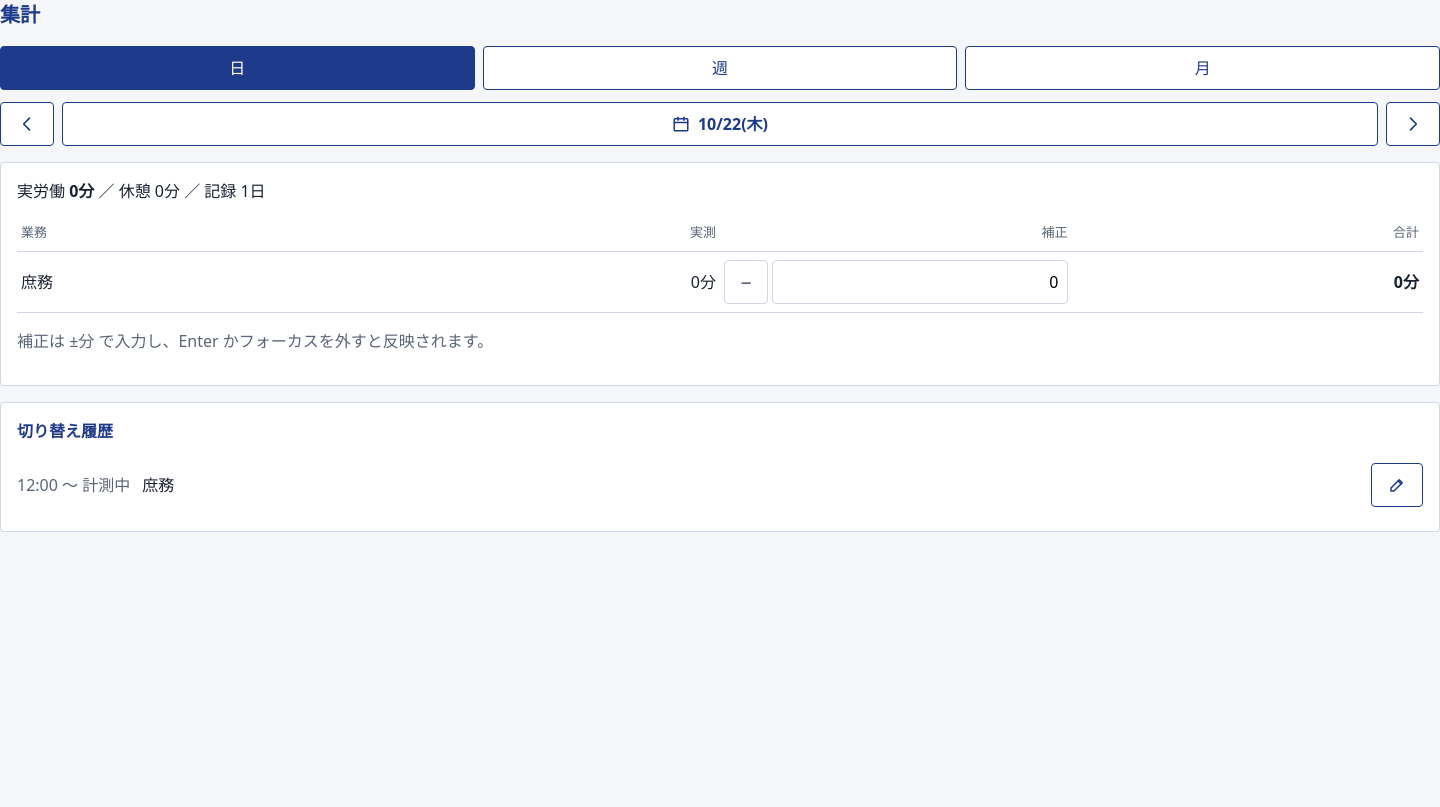
Test: SummaryScreen › カレンダー › 週・月モードではラベルはボタンではなくカレンダーも出ない
Step 1. Click the button "10/22(木)" → (720,124), box x1=62 y1=102 x2=1378 y2=146
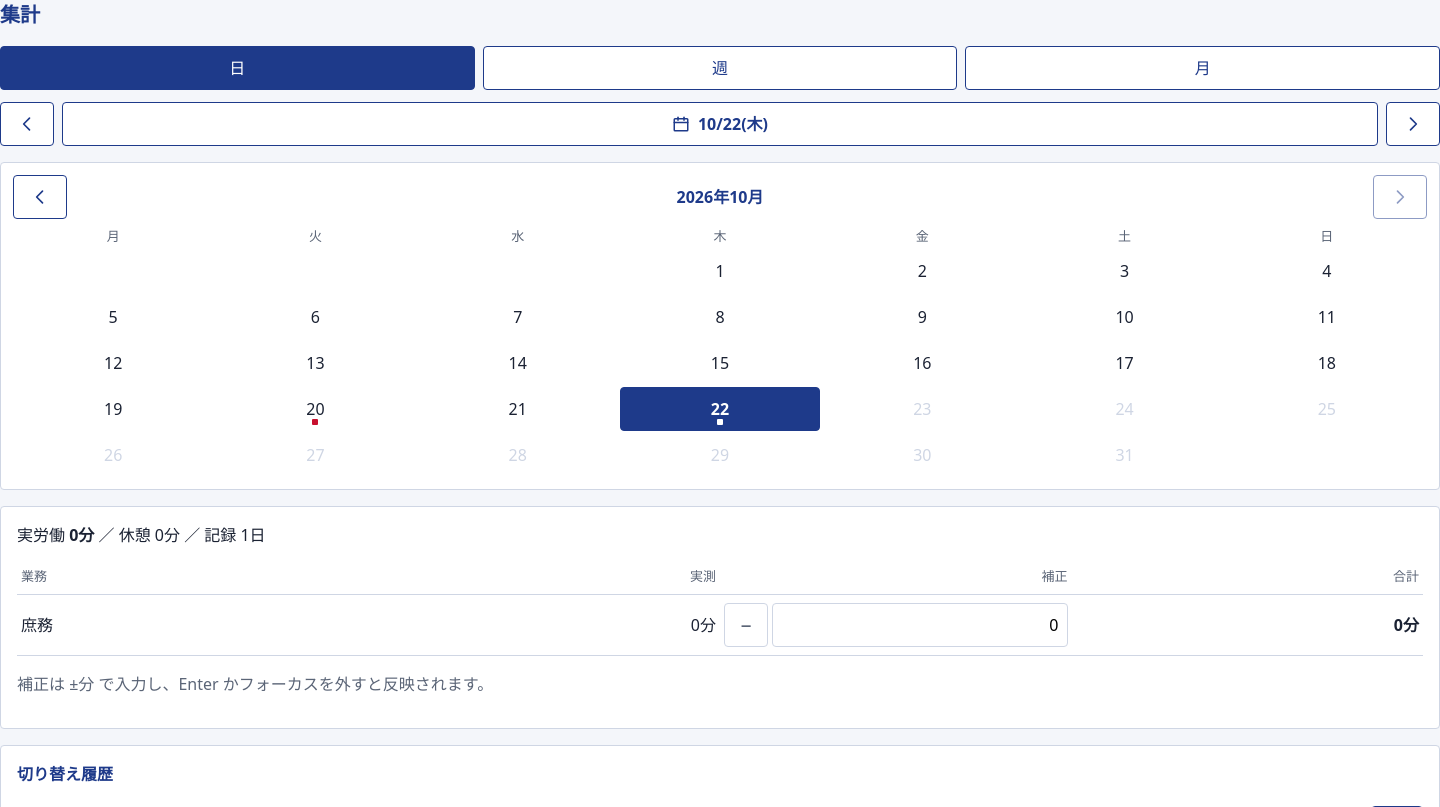
Step 2. Click the button "週" → (720,68), box x1=483 y1=46 x2=957 y2=90
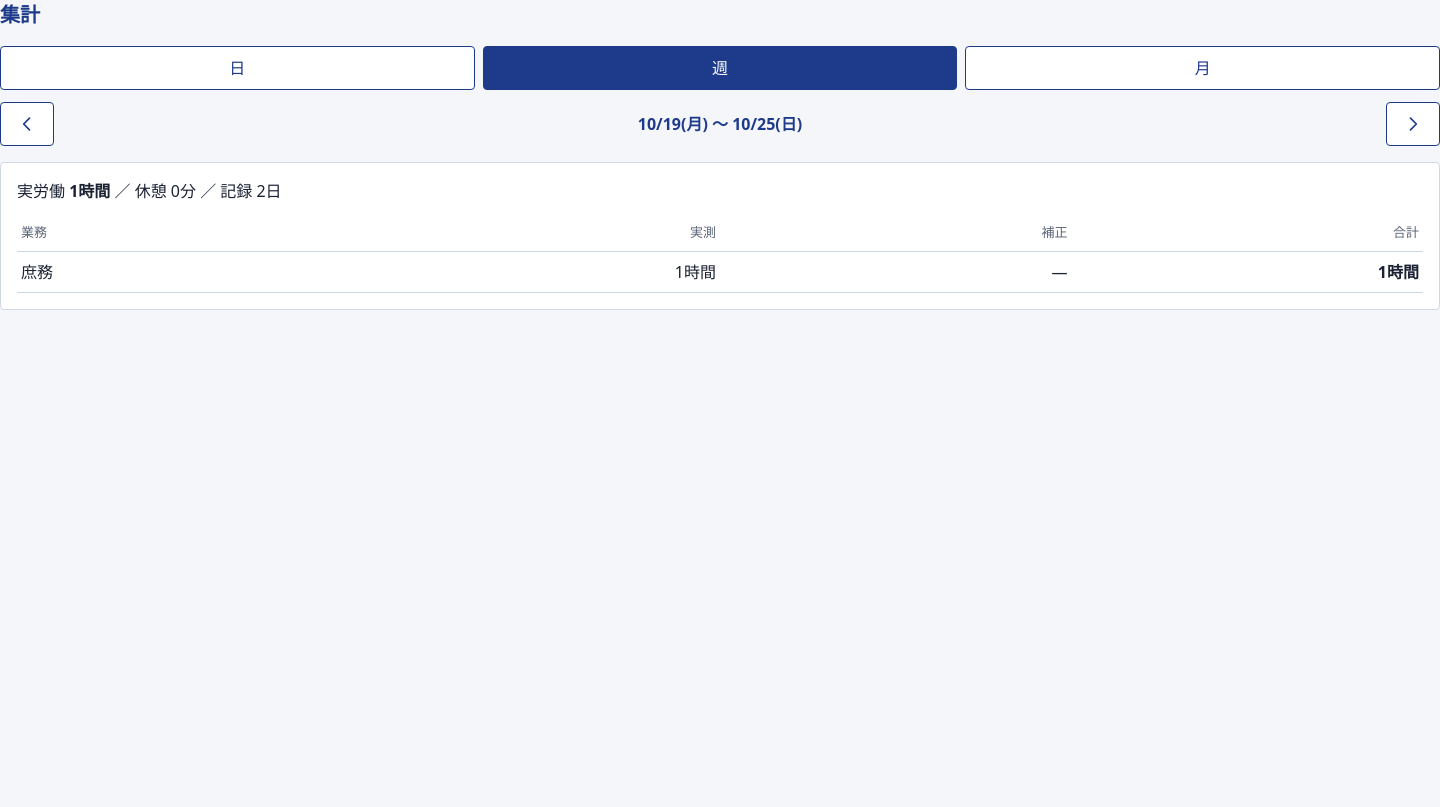
Check: the element with class "calendar" is gone
